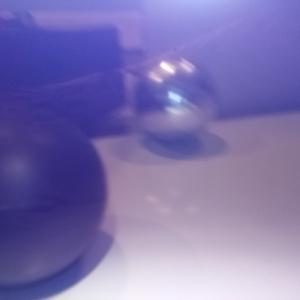alive_ball: (137, 55, 220, 141)
dead_ball: (1, 96, 106, 287)
